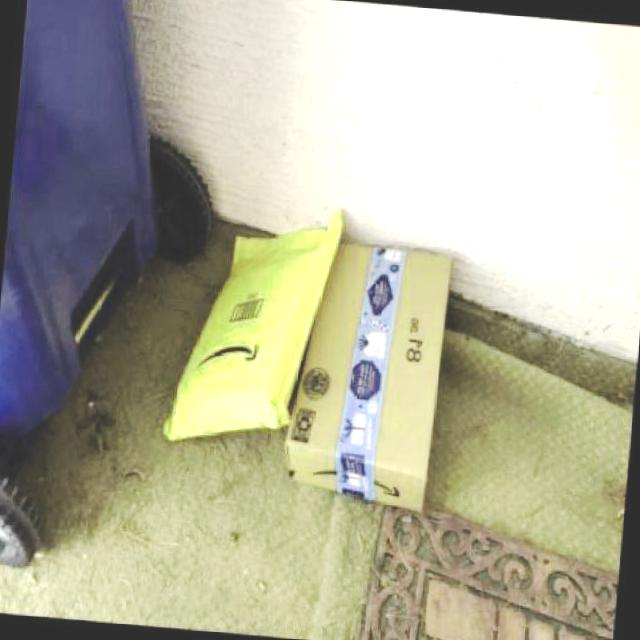Box: (279, 237, 453, 514), (162, 193, 344, 455)
